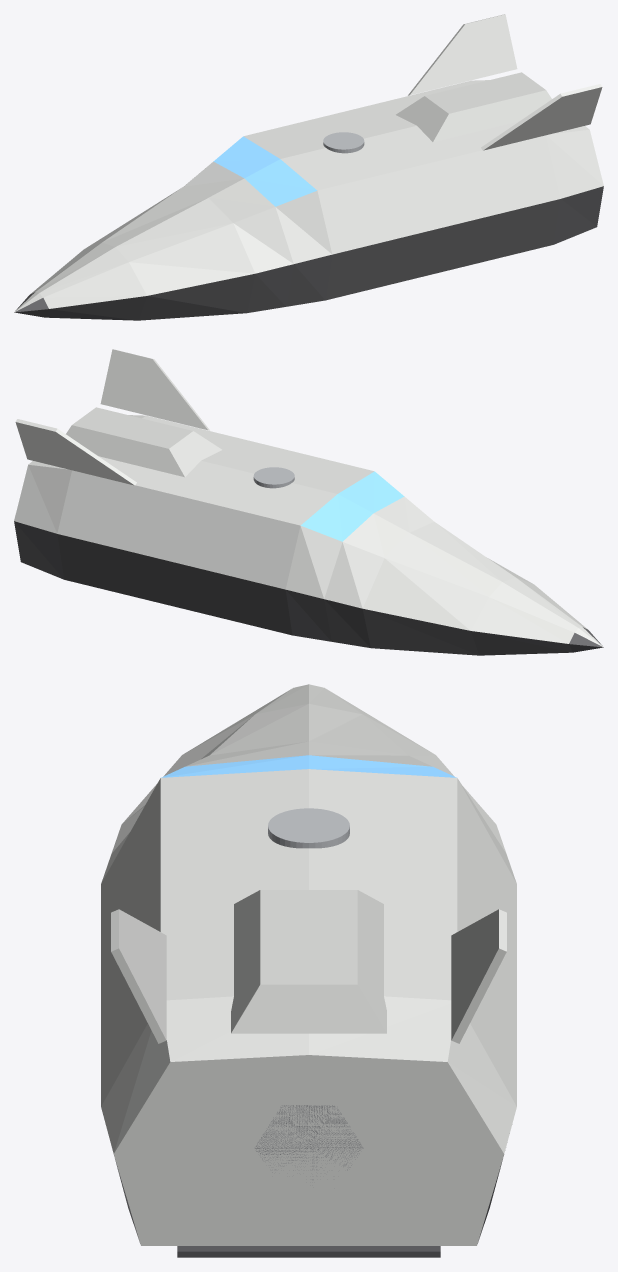
The model's file is _tmp_B2_deployed.glb.
3 views of the same model, one above another, from view 1: azimuth 30°, elevation 25°; view 2: azimuth 150°, elevation 25°; view 3: azimuth 270°, elevation 25° (orthographic). The views are drawn at different scales.
Parts seen in each view (by area): view 1: hull, belly_tps, kit_pod, fin_stbd, glazing, fin_port, hatch_trunk; view 2: hull, belly_tps, kit_pod, fin_port, glazing, fin_stbd, hatch_trunk; view 3: hull, kit_pod, fin_stbd, fin_port, glazing, body_flap, hatch_trunk, torch_nozzle.
Part boxes in pixels (x1,y1,x2,y2): hull: (15,80,603,311); belly_tps: (14,186,603,320); kit_pod: (396,72,551,142); fin_stbd: (408,14,517,95); glazing: (213,136,316,206); fin_port: (481,84,602,150); hatch_trunk: (323,132,364,153); hull: (14,415,602,646); belly_tps: (14,521,603,655); kit_pod: (66,407,221,477); fin_port: (100,349,209,430); glazing: (301,471,404,541); fin_stbd: (15,419,136,485); hatch_trunk: (253,467,294,488); hull: (101,684,516,1245); kit_pod: (231,890,386,1033); fin_stbd: (451,909,506,1043); fin_port: (111,909,166,1043); glazing: (161,755,456,777); body_flap: (177,1246,440,1257); hatch_trunk: (268,808,349,848); torch_nozzle: (255,1105,363,1179).
Size of the model in its own units: 12.8 by 3.48 by 4.26.
